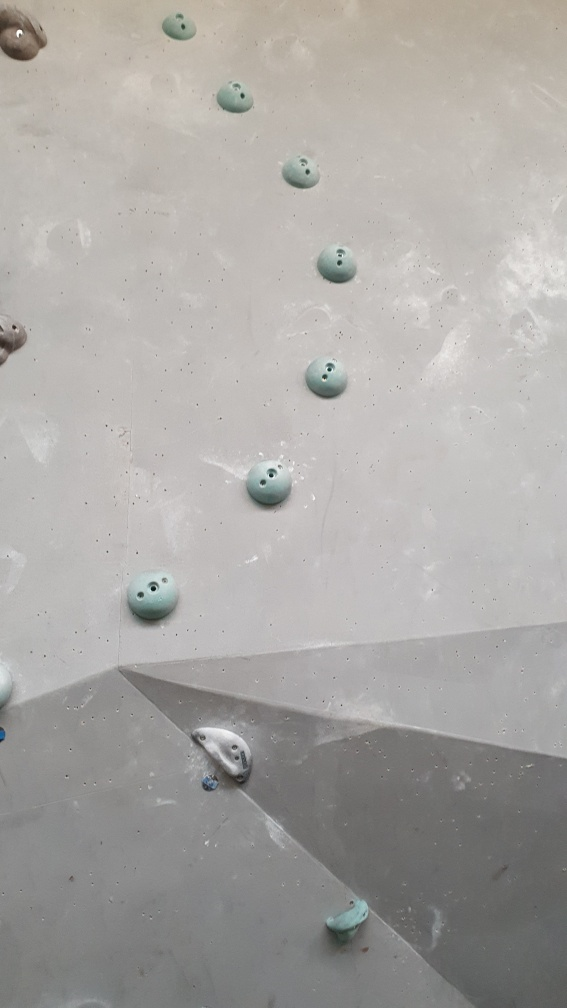Hand Start: (199, 773, 225, 797)
Jug: (325, 895, 374, 950)
Sloper: (123, 565, 184, 628), (245, 455, 299, 507), (304, 354, 354, 400), (279, 147, 324, 196), (319, 239, 358, 285), (216, 75, 258, 116), (157, 5, 201, 42)
